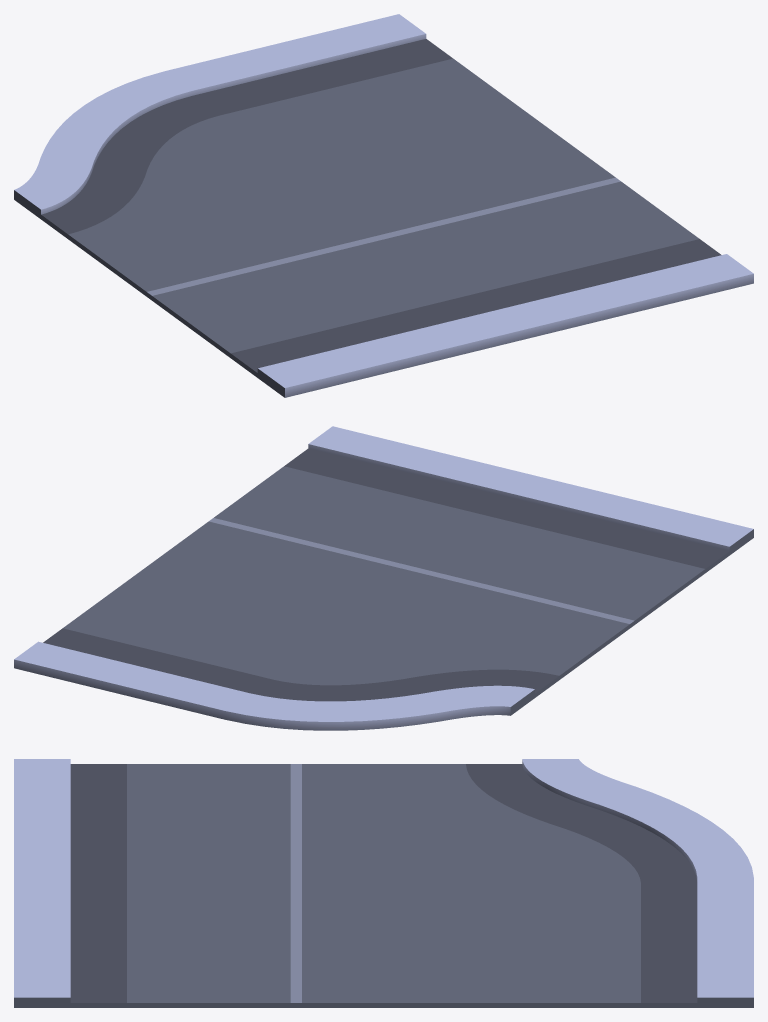
File: road-side-exit.glb
The picture shows the model from 3 angles, top to bottom: view 1: azimuth 30°, elevation 25°; view 2: azimuth 150°, elevation 25°; view 3: azimuth 270°, elevation 25°; orthographic projection. The views are drawn at different scales.
Visible parts, largest first — view 1: road-side-exit; view 2: road-side-exit; view 3: road-side-exit.
Part boxes in pixels (x1,y1,x2,y2): road-side-exit: (14, 14, 753, 397); road-side-exit: (14, 426, 753, 730); road-side-exit: (14, 759, 753, 1007).
Size of the model in its own units: 1 by 0.02 by 1.31.
1 material, 1 textured.
